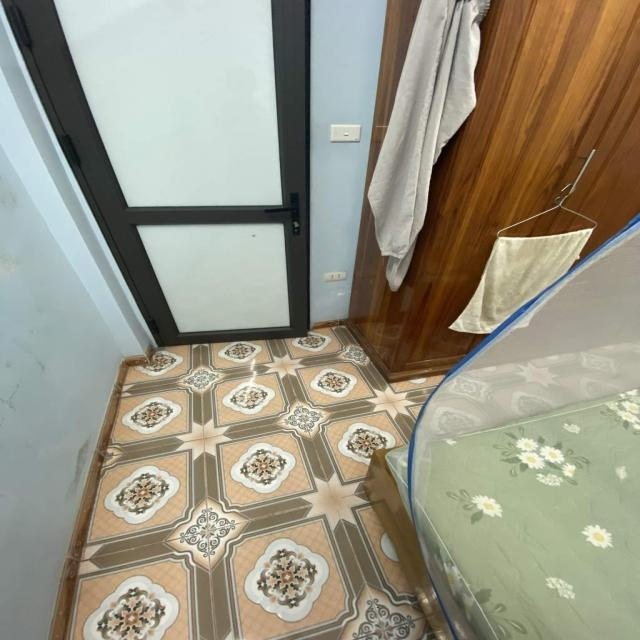outlet: (323, 270, 347, 282)
